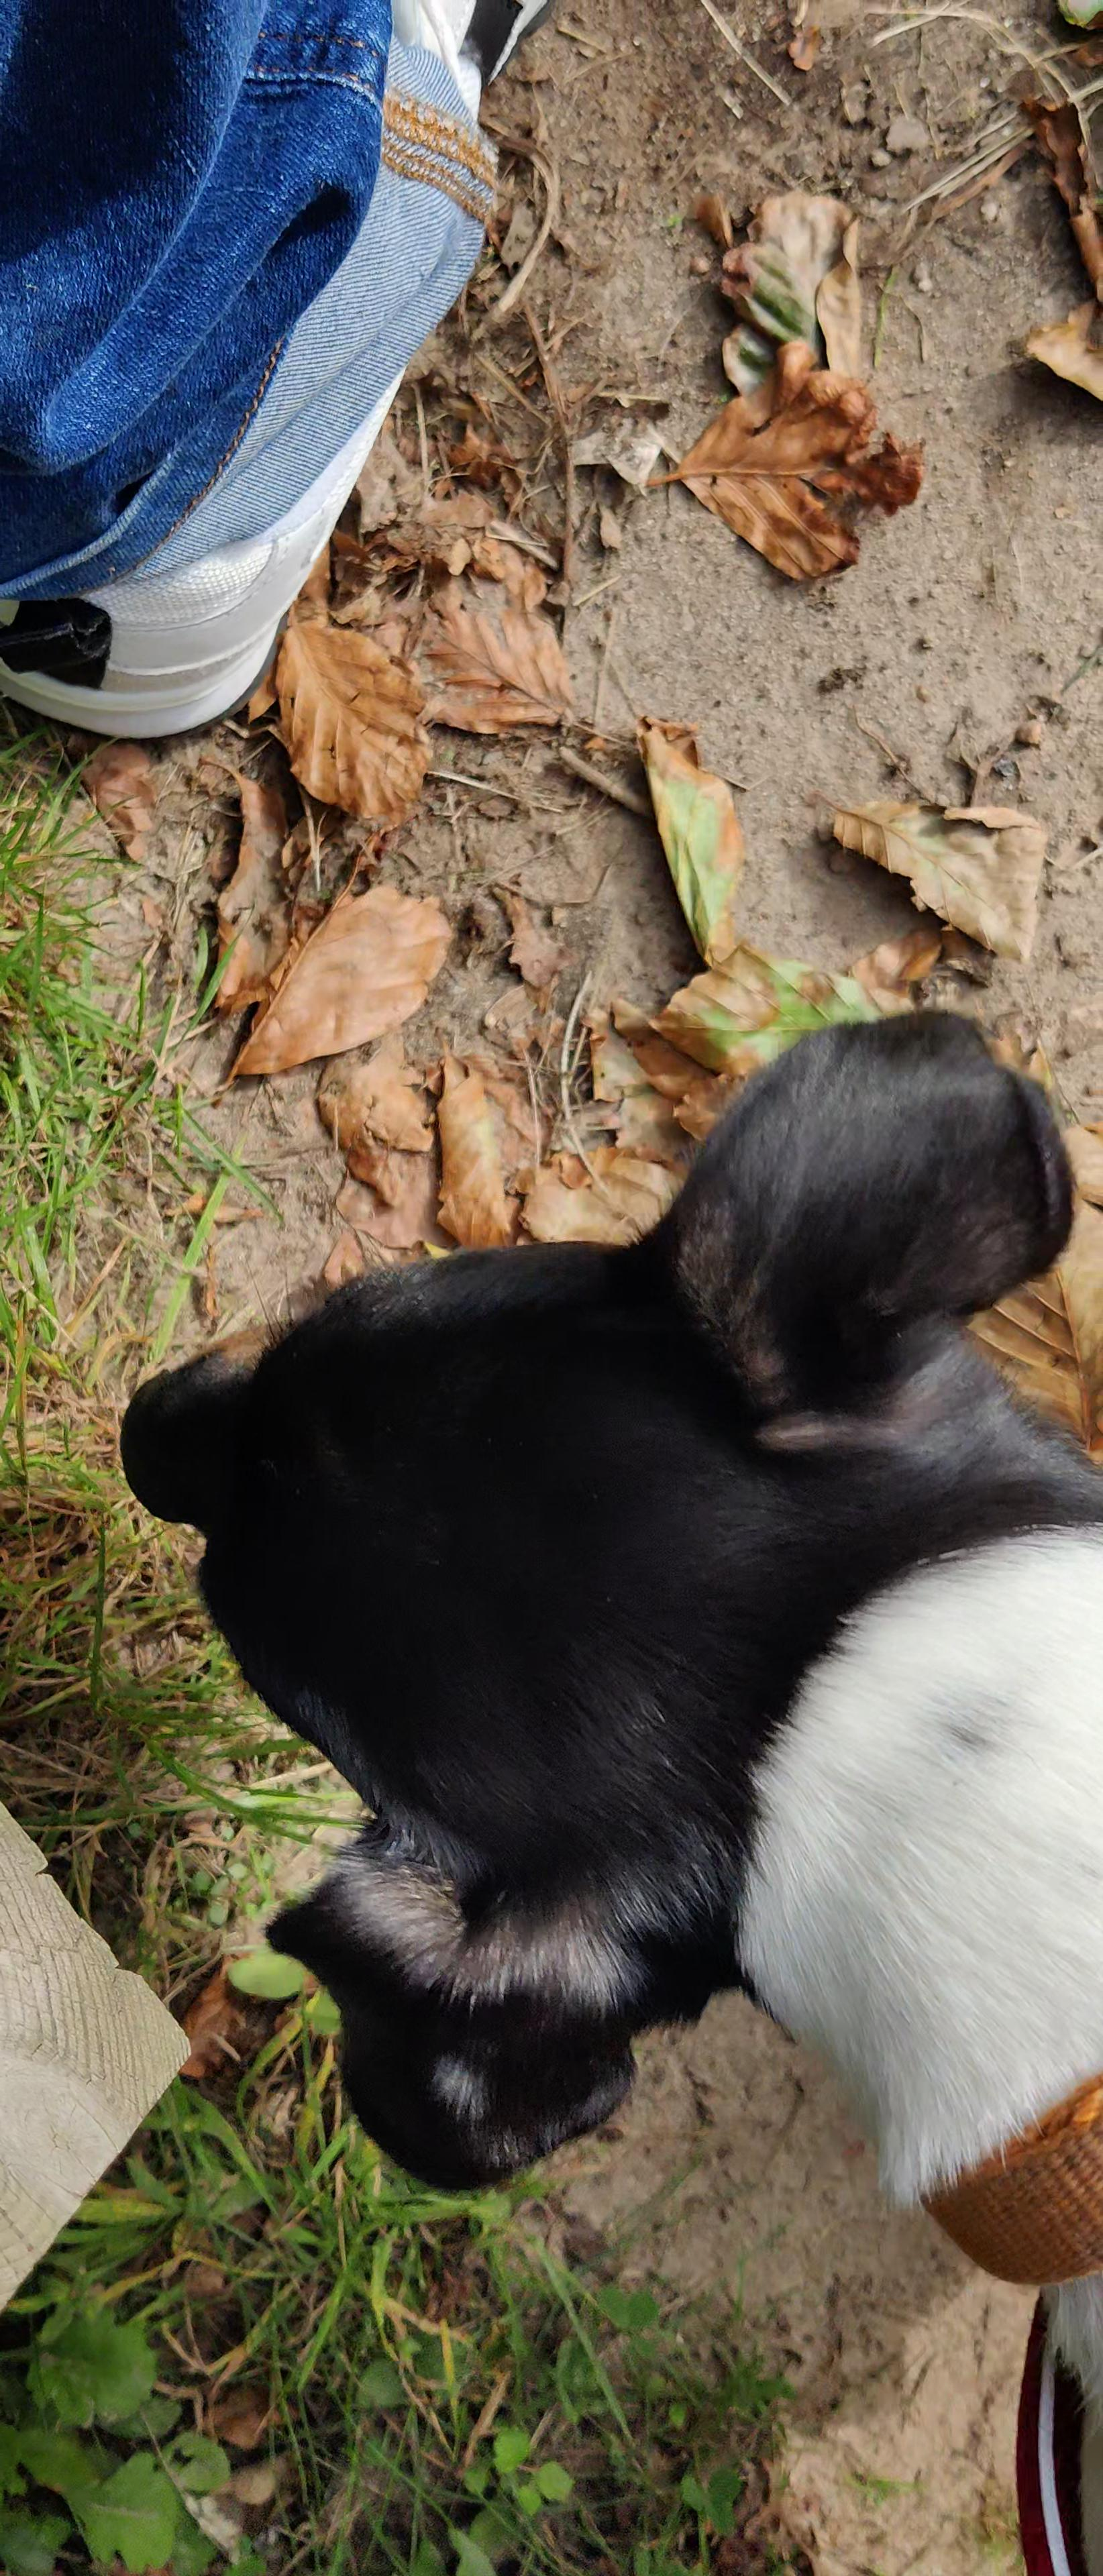Dog: (102, 979, 1103, 2576)
